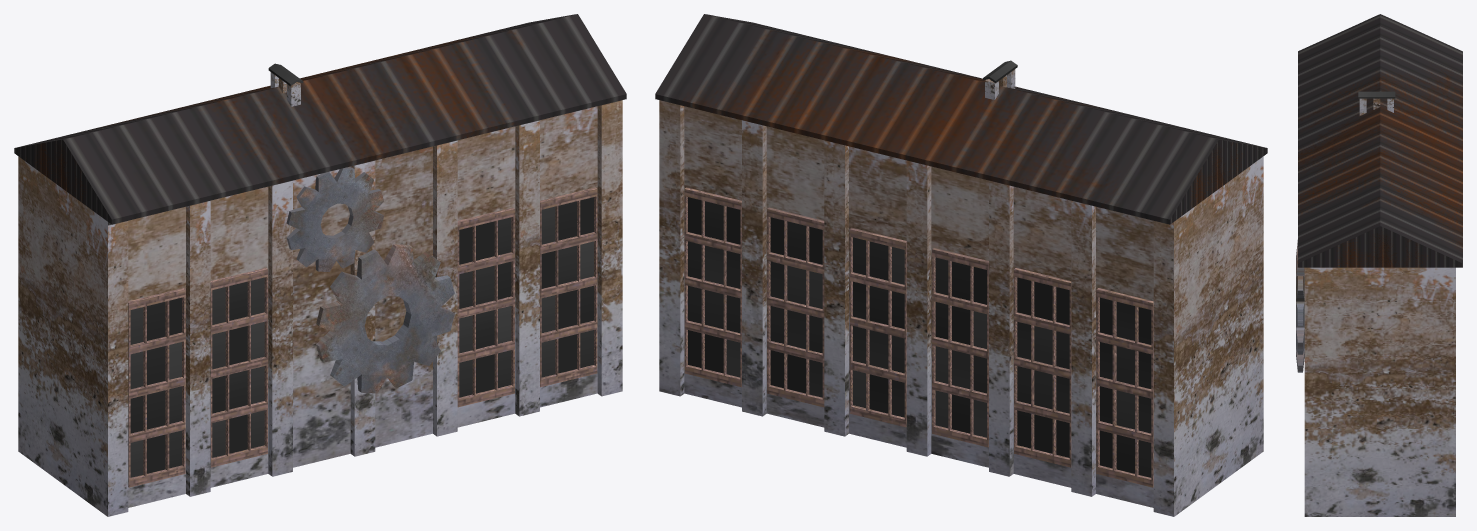
File: IE_Building2.fbx
3 views of the same model, side by side, from view 1: azimuth 30°, elevation 25°; view 2: azimuth 150°, elevation 25°; view 3: azimuth 270°, elevation 25° (orthographic). The views are drawn at different scales.
Parts seen in each view (by area): view 1: Cube.003, Plane, Cogwheel.002, Cogwheel.001; view 2: Cube.003, Plane; view 3: Plane, Cube.003, Cogwheel.002, Cube.002.
Boxes of the visible parts, x1,y1,x2,y2 form: Cube.003: [18, 100, 622, 516]; Plane: [14, 14, 626, 224]; Cogwheel.002: [316, 244, 454, 393]; Cogwheel.001: [286, 167, 383, 271]; Cube.003: [659, 100, 1263, 516]; Plane: [655, 14, 1267, 224]; Plane: [1298, 14, 1462, 267]; Cube.003: [1304, 267, 1455, 516]; Cogwheel.002: [1296, 240, 1304, 372]; Cube.002: [1358, 91, 1395, 98].
Size of the model in its own units: 864 by 578 by 287.
